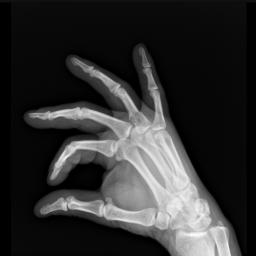cancer: (130, 112, 153, 130)
